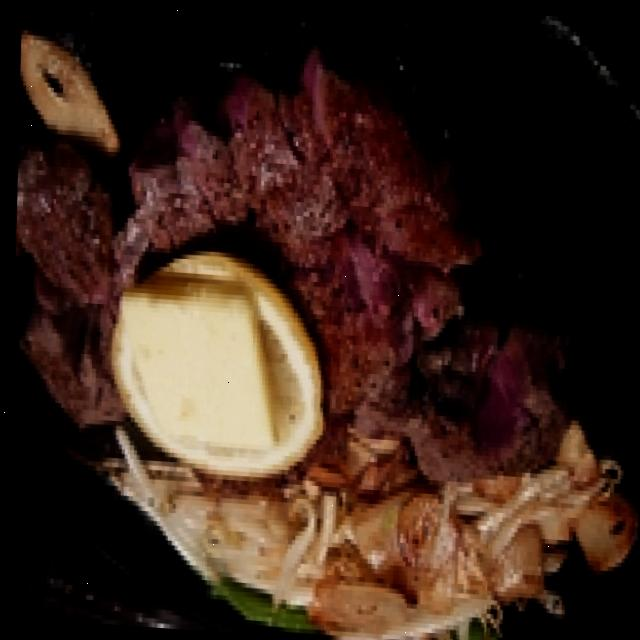牛肉菜式: (1, 24, 605, 517)
